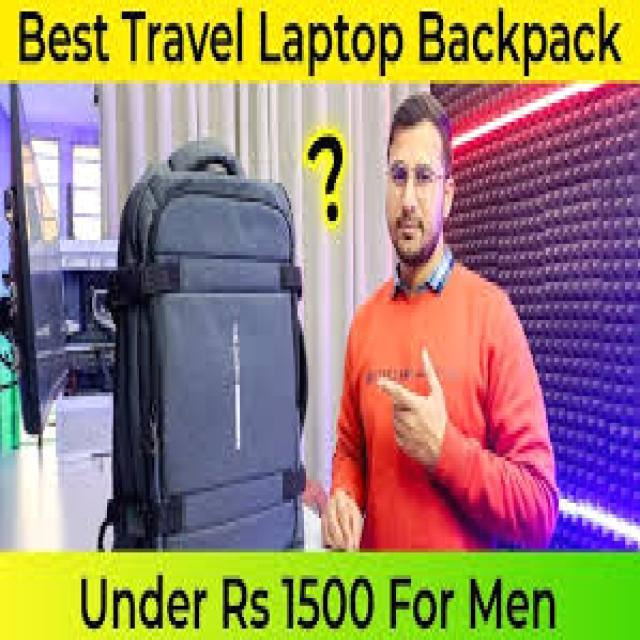backpack: (98, 139, 310, 554)
